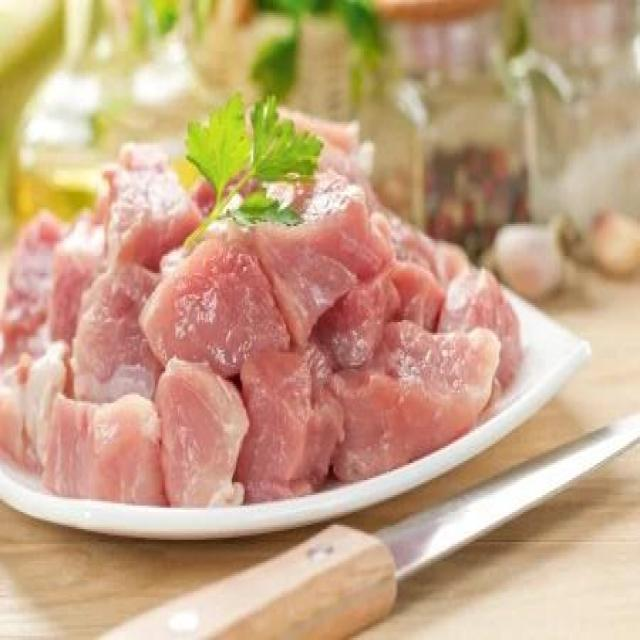pork: (143, 227, 283, 372)
